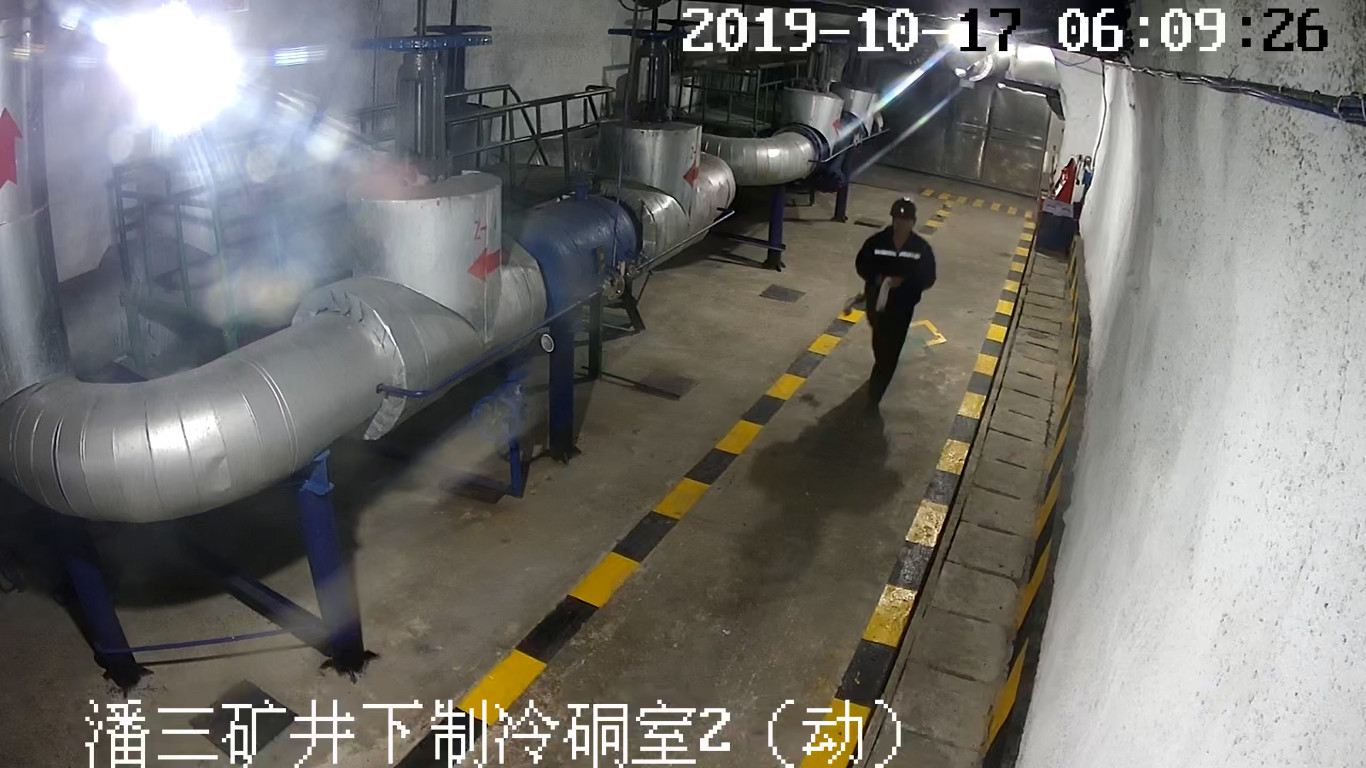helmet: (889, 196, 916, 220)
